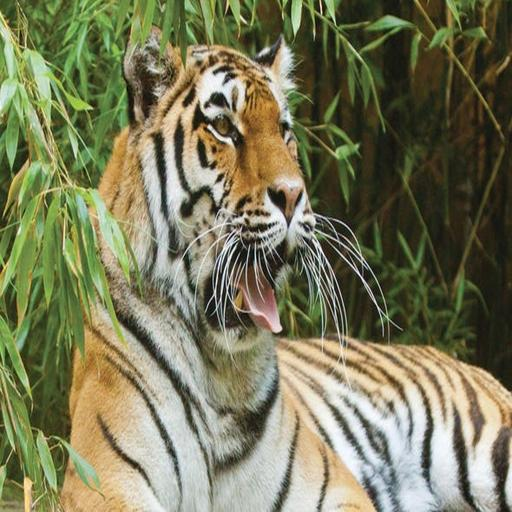Tiger: (52, 32, 512, 512)
